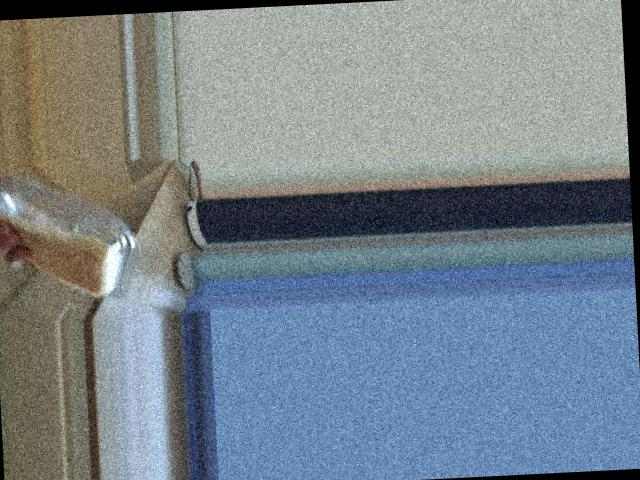cheese: (43, 191, 126, 284)
